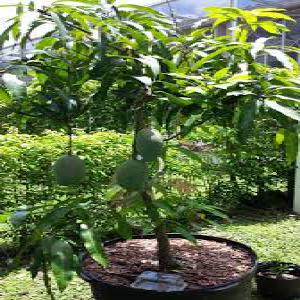Tree: (11, 3, 293, 266)
